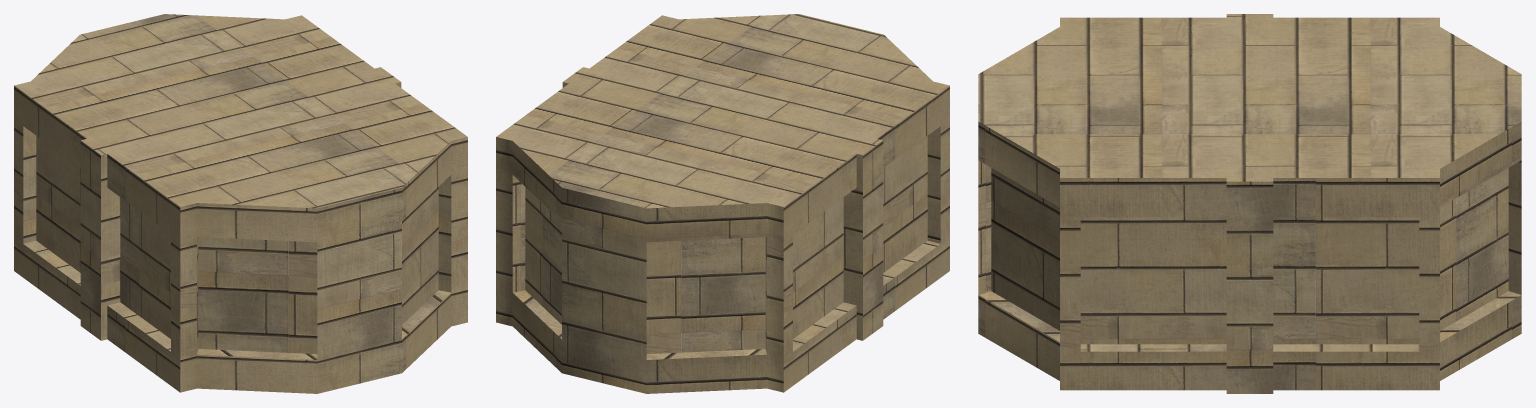
The model's file is buildingStack1.fbx.
3 renders of one model, left to right at view 1: azimuth 30°, elevation 25°; view 2: azimuth 150°, elevation 25°; view 3: azimuth 270°, elevation 25°, orthographic. The views are drawn at different scales.
Visible parts, largest first — view 1: building1; view 2: building1; view 3: building1.
Part boxes in pixels (x1,y1,x2,y2): building1: (14,14,467,393); building1: (496,14,949,393); building1: (978,14,1521,393).
Bounding box in the file's own units: 13.57 × 8.02 × 18.58.
1 material, 1 textured.
